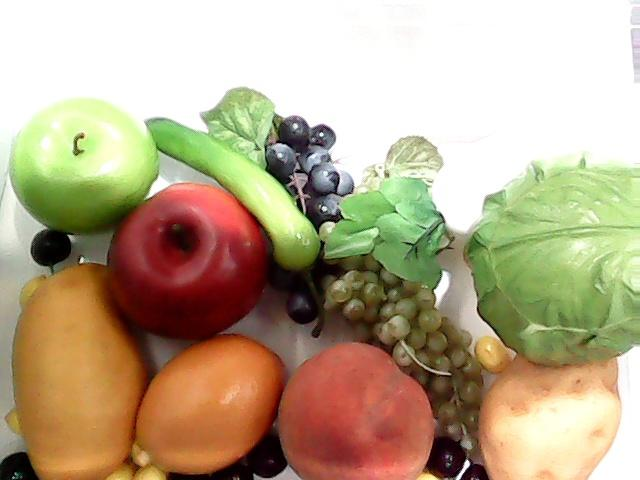apple: (102, 180, 278, 344), (5, 91, 163, 243)
cabbage: (472, 144, 640, 377)
grape: (326, 245, 494, 459), (270, 108, 366, 324)
lemon: (130, 332, 294, 480)
mango: (12, 260, 140, 480)
peach: (278, 342, 434, 480)
pepper: (136, 113, 324, 272)
potato: (475, 352, 623, 480)
radish: (322, 119, 640, 289)
